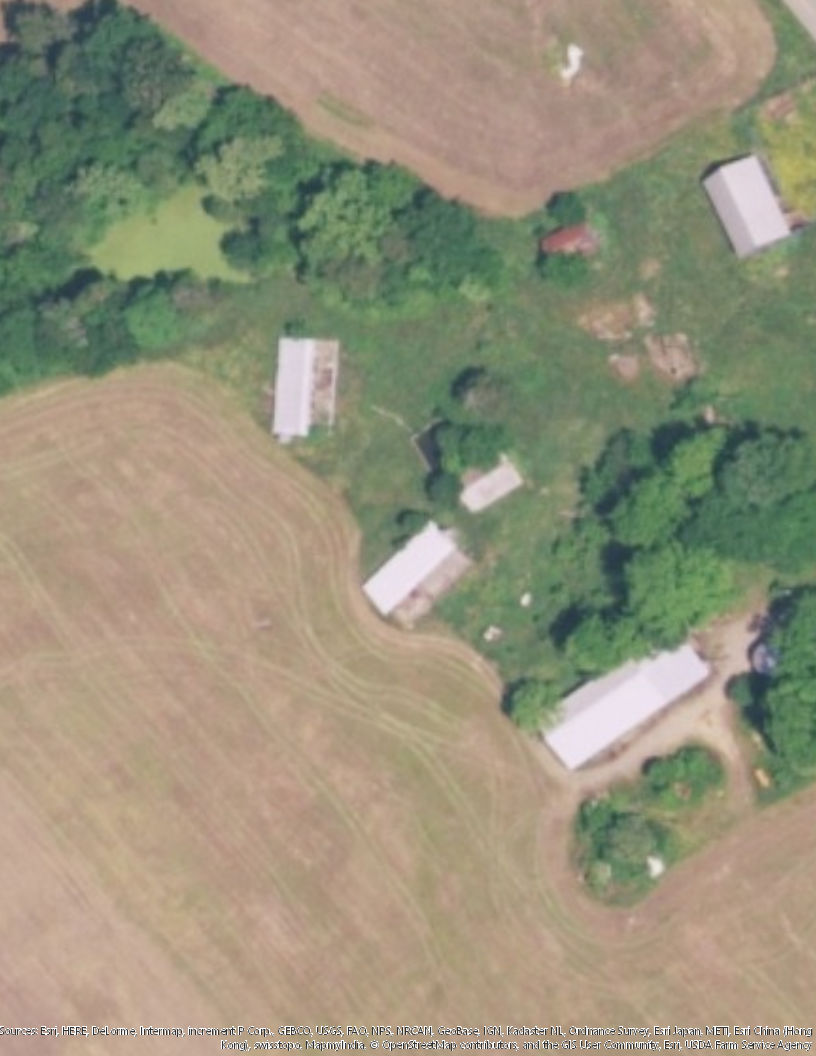cafo: (516, 619, 725, 770), (348, 513, 466, 620)
